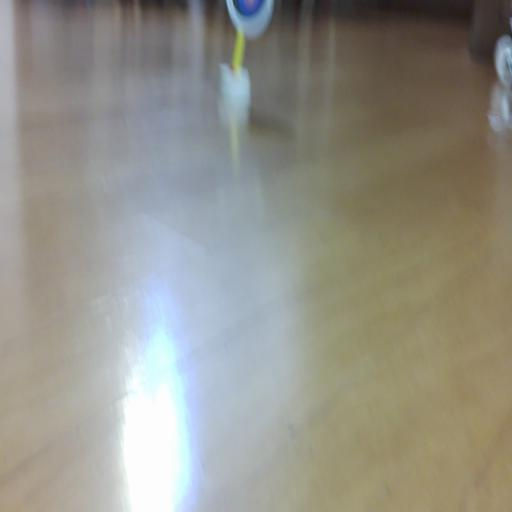target: (226, 0, 273, 38)
